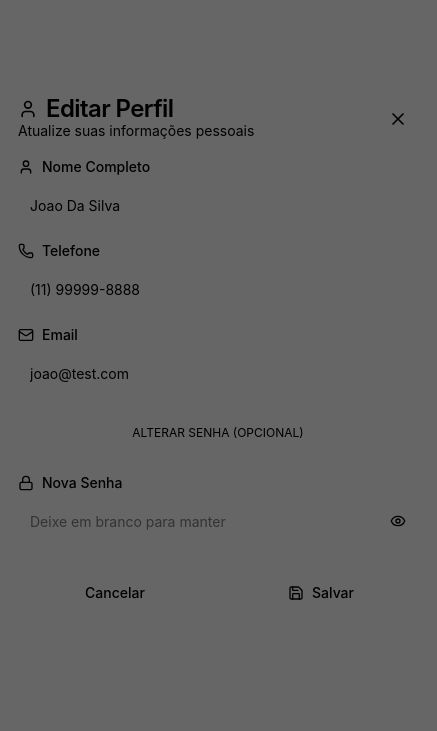
ProfileEditModal › should show error when passwords do not match
Type "NewPass123" into the password field with placeholder "Deixe em branco para manter" at (218, 521), box [18,501,418,541]
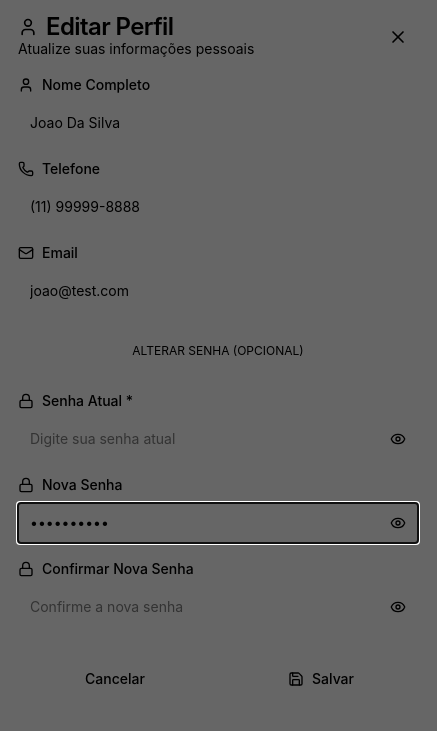
Type "OldPass1" into the password field with placeholder "Digite sua senha atual" at (218, 438), box [18,418,418,458]
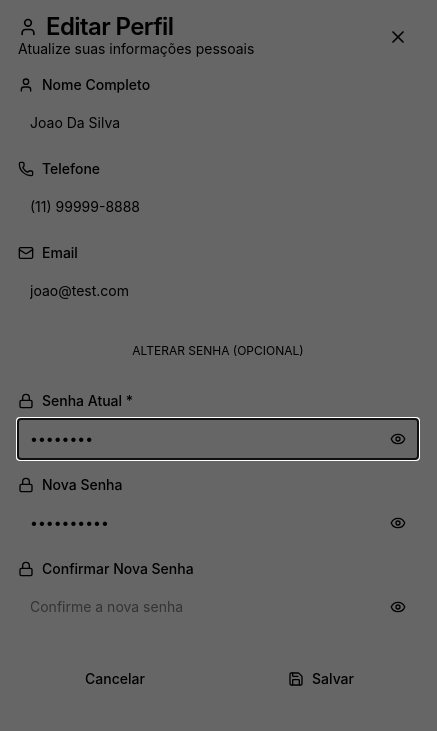
Type "DifferentPass1" into the password field with placeholder "Confirme a nova senha" at (218, 606), box [18,586,418,626]
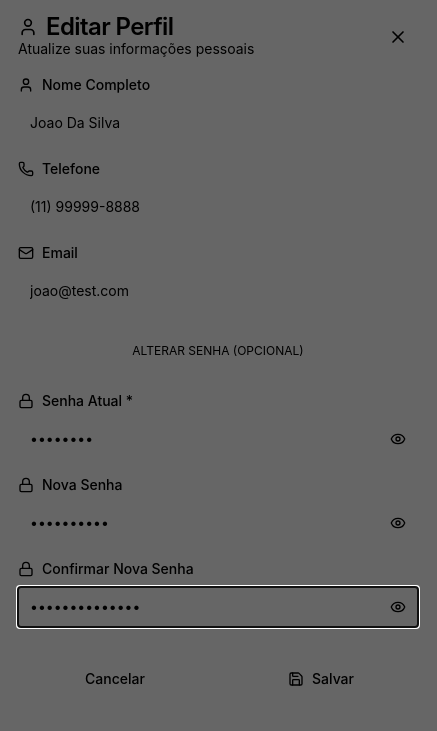
Click the button "Salvar" at (321, 678), box [224,658,418,698]
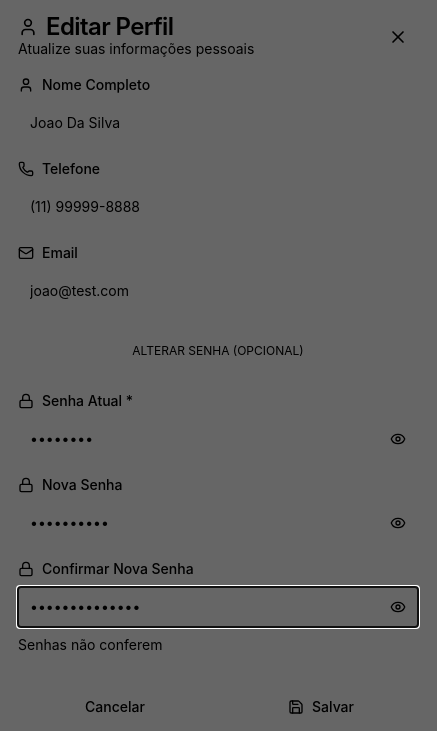
Expected: the text "Senhas não conferem" is shown, [18,636,162,652]
